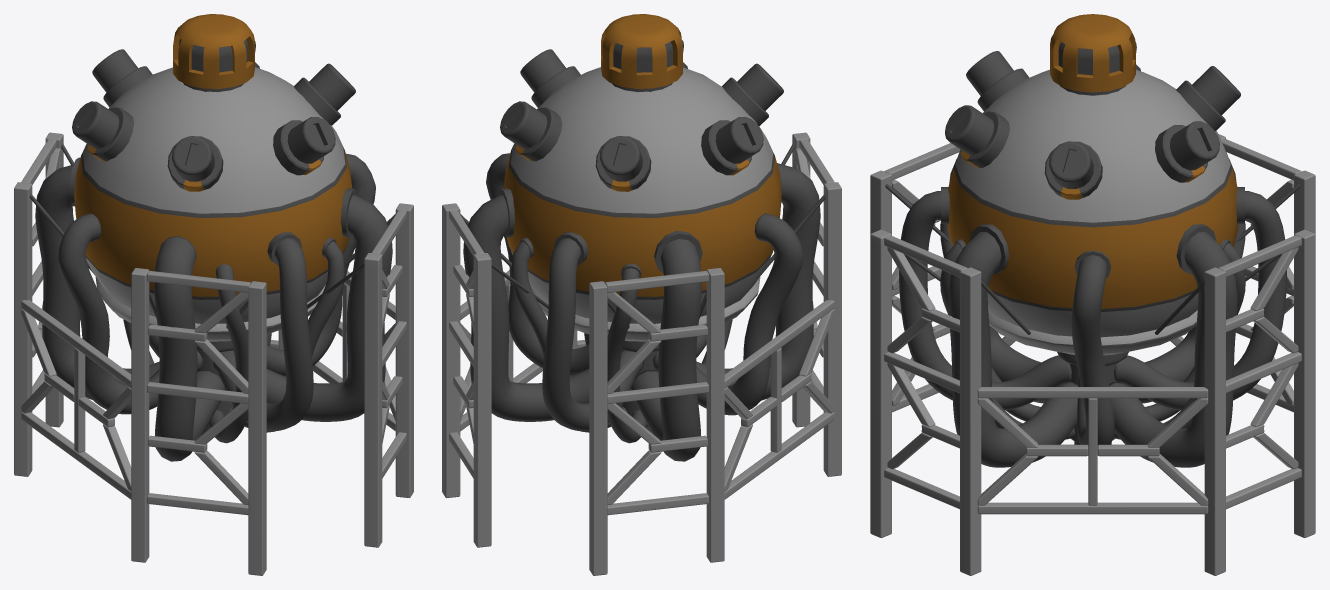
File: env_propanestation_structure06.fbx
The picture shows the model from 3 angles, left to right: view 1: azimuth 30°, elevation 25°; view 2: azimuth 150°, elevation 25°; view 3: azimuth 270°, elevation 25°; orthographic projection. The views are drawn at different scales.
Parts seen in each view (by area): view 1: curve4; view 2: curve4; view 3: curve4.
Part boxes in pixels (box(x1,y1,x2,y2)): curve4: box(14, 14, 413, 575); curve4: box(442, 14, 841, 575); curve4: box(870, 14, 1315, 575).
Bounding box in the file's own units: 73.99 × 103 × 86.72.
